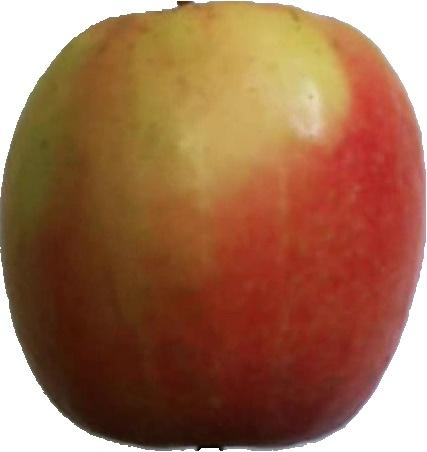Apple Ripe: (2, 2, 424, 446)
